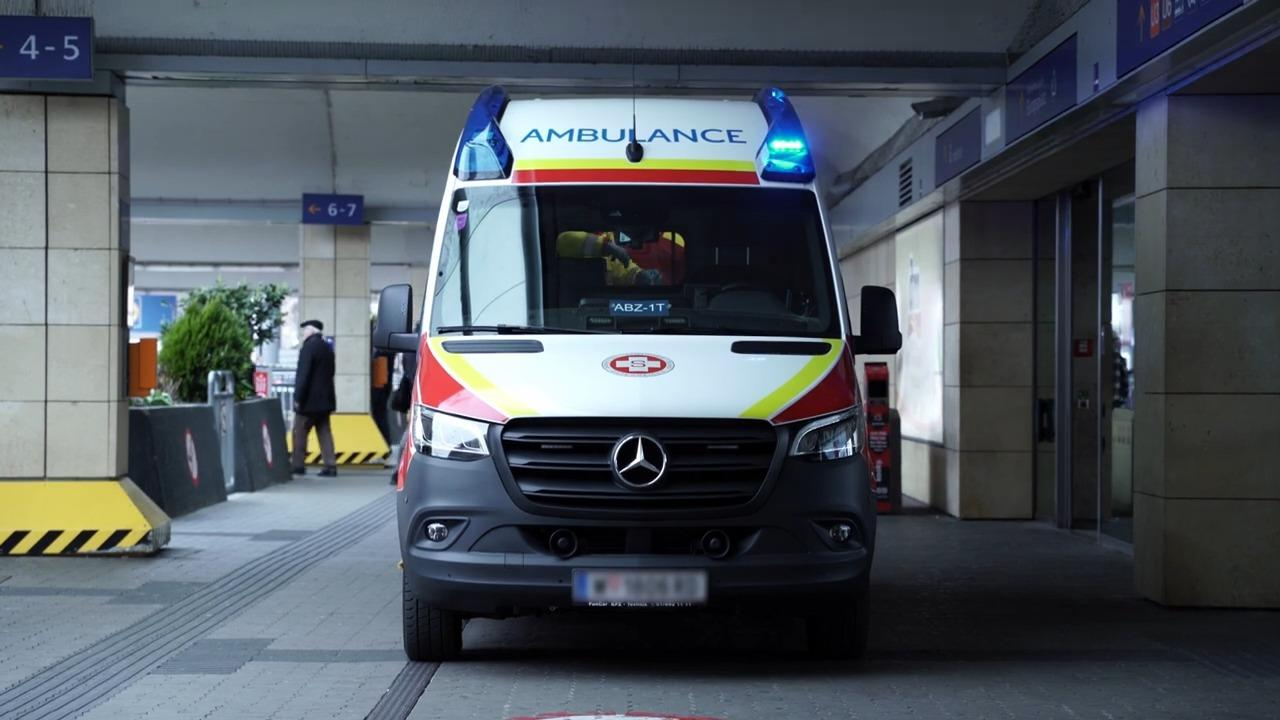car: (383, 81, 903, 664)
